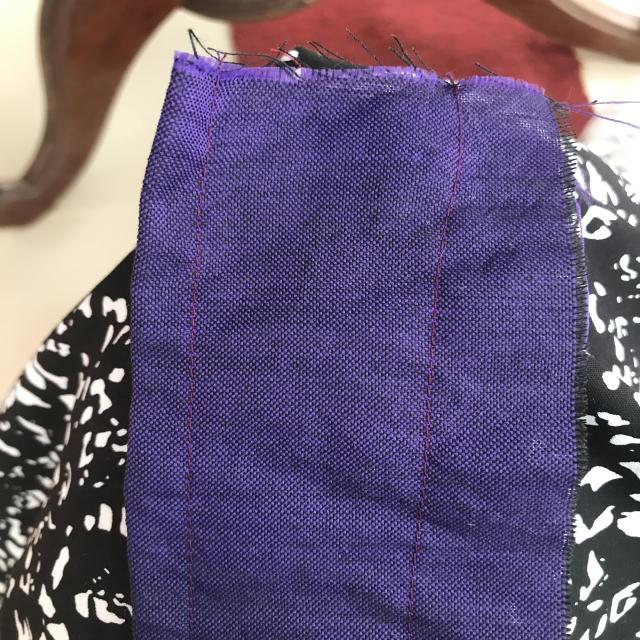good: (406, 380, 436, 578), (176, 308, 212, 444), (168, 491, 207, 594)
